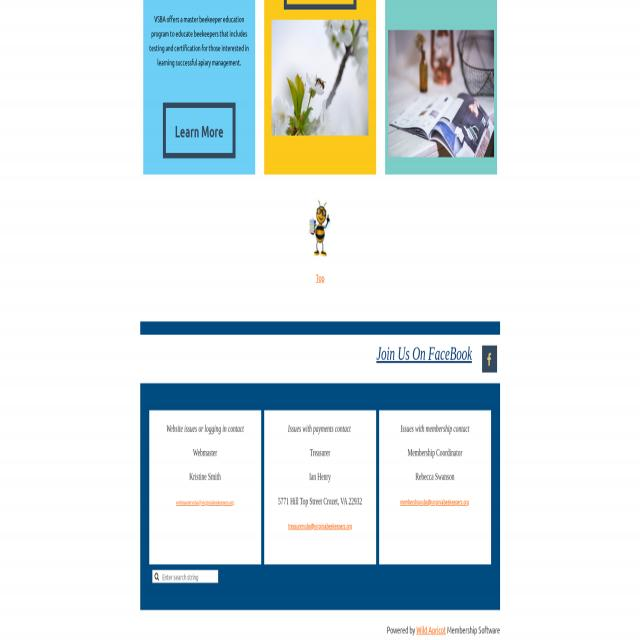button: (388, 30, 494, 158), (272, 20, 368, 135), (163, 102, 235, 158), (482, 346, 497, 372)
field: (152, 570, 218, 582)
